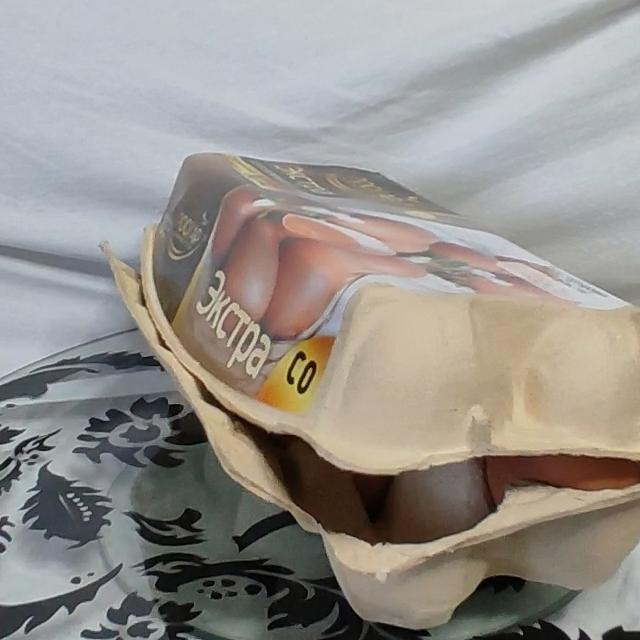egg: (70, 103, 640, 640)
